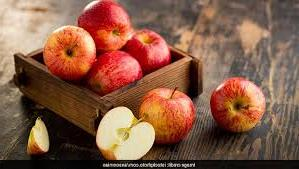apple: (92, 104, 157, 164), (137, 83, 197, 143), (210, 75, 267, 136), (40, 25, 97, 83), (83, 50, 142, 100), (77, 0, 134, 51), (125, 28, 172, 73), (24, 116, 49, 158)
